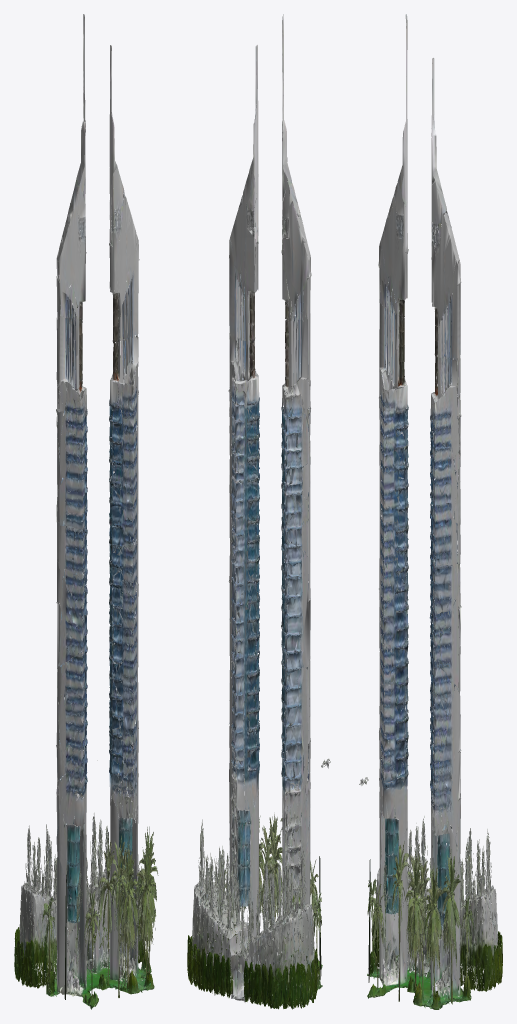
Rendered from emirates-tower-2.glb.
3 views of the same model, side by side, from view 1: azimuth 30°, elevation 25°; view 2: azimuth 150°, elevation 25°; view 3: azimuth 330°, elevation 25° (orthographic).
Visible parts, largest first — view 1: Mesh_0; view 2: Mesh_0; view 3: Mesh_0.
Boxes of the visible parts, bbox=[...] form: Mesh_0: bbox=[14, 14, 158, 1009]; Mesh_0: bbox=[187, 14, 330, 1009]; Mesh_0: bbox=[359, 14, 502, 1009].
Bounding box in the file's own units: 40 × 309 × 33.67.
1 material, 1 textured.
